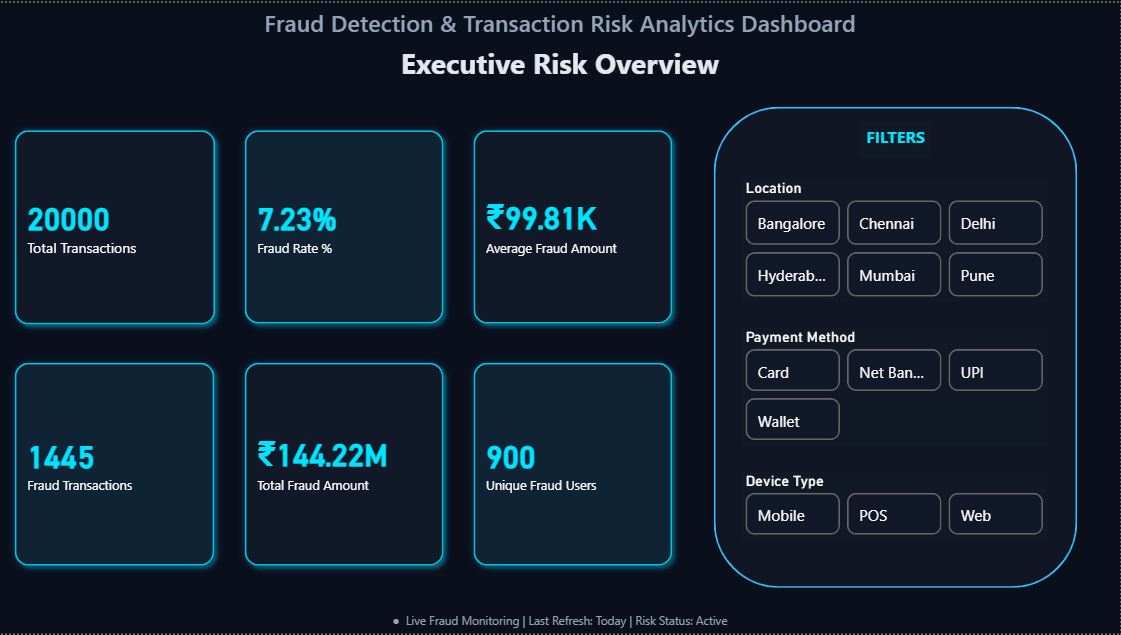

The dashboard page shown, as its layout file describes it:
{"tool":"powerbi","page":{"name":"Executive Risk Overview","canvas":[1280,720],"ordinal":0},"visuals":[{"type":"shape","box":[815.3,118.9,415.5,549.9],"z":0},{"type":"cardVisual","fields":{"Data":["fraud_dashboard_dataset.Fraud Transactions"]},"box":[0,393.8,263,266.6],"z":1000},{"type":"cardVisual","fields":{"Data":["fraud_dashboard_dataset.Fraud Rate %"]},"box":[263,128.5,261.8,255.8],"z":2000},{"type":"cardVisual","fields":{"Data":["fraud_dashboard_dataset.Average Fraud Amount"]},"box":[524.7,128.5,261.8,255.8],"z":3000},{"type":"cardVisual","fields":{"Data":["fraud_dashboard_dataset.Total Fraud Amount"]},"box":[263,393.8,261.8,266.6],"z":4000},{"type":"cardVisual","fields":{"Data":["fraud_dashboard_dataset.High Risk Transactions"]},"box":[524.7,393.8,261.8,266.6],"z":5000},{"type":"advancedSlicerVisual","title":"Location","fields":{"Values":["fraud_dashboard_dataset.location"]},"box":[847.7,201,351.5,140.1],"z":6000},{"type":"advancedSlicerVisual","title":"Payment Method","fields":{"Values":["fraud_dashboard_dataset.payment_method"]},"box":[847.7,371,351.5,134.4],"z":7000},{"type":"advancedSlicerVisual","title":"Device Type","fields":{"Values":["fraud_dashboard_dataset.device_type"]},"box":[847.7,535.3,351.5,78.1],"z":8000},{"type":"textbox","box":[0,0,1280.3,50.8],"z":9000},{"type":"textbox","box":[0,41.4,1280,58.6],"z":10000},{"type":"textbox","box":[982.2,135.7,81.7,40.8],"z":11000},{"type":"textbox","box":[0,691.5,1279.6,28.7],"z":12000},{"type":"cardVisual","fields":{"Data":["fraud_dashboard_dataset.Total Transactions"]},"box":[0,128,263,256],"z":13000}]}

Visuals, with their boxes in screenshot pixels (x1, y1, x2, y2), scaled from the page's 1280x720 canvas onto the 1121x635 screenshot:
shape: {"x1": 714, "y1": 105, "x2": 1078, "y2": 590}
cardVisual - fraud_dashboard_dataset.Fraud Transactions: {"x1": 0, "y1": 347, "x2": 230, "y2": 582}
cardVisual - fraud_dashboard_dataset.Fraud Rate %: {"x1": 230, "y1": 113, "x2": 460, "y2": 339}
cardVisual - fraud_dashboard_dataset.Average Fraud Amount: {"x1": 460, "y1": 113, "x2": 689, "y2": 339}
cardVisual - fraud_dashboard_dataset.Total Fraud Amount: {"x1": 230, "y1": 347, "x2": 460, "y2": 582}
cardVisual - fraud_dashboard_dataset.High Risk Transactions: {"x1": 460, "y1": 347, "x2": 689, "y2": 582}
"Location" advancedSlicerVisual: {"x1": 742, "y1": 177, "x2": 1050, "y2": 301}
"Payment Method" advancedSlicerVisual: {"x1": 742, "y1": 327, "x2": 1050, "y2": 446}
"Device Type" advancedSlicerVisual: {"x1": 742, "y1": 472, "x2": 1050, "y2": 541}
textbox: {"x1": 0, "y1": 0, "x2": 1120, "y2": 45}
textbox: {"x1": 0, "y1": 37, "x2": 1120, "y2": 88}
textbox: {"x1": 860, "y1": 120, "x2": 932, "y2": 156}
textbox: {"x1": 0, "y1": 610, "x2": 1120, "y2": 634}
cardVisual - fraud_dashboard_dataset.Total Transactions: {"x1": 0, "y1": 113, "x2": 230, "y2": 339}
